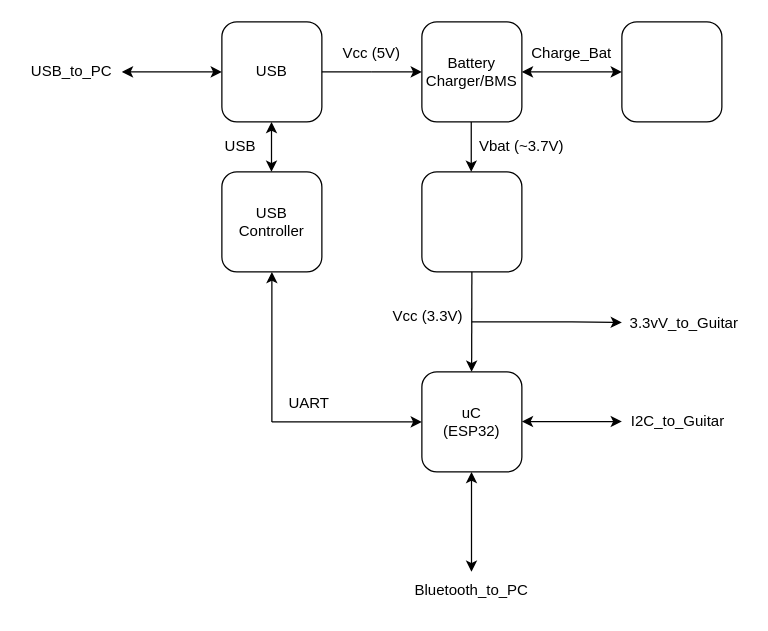
The diagram is 768 pixels wide and 631 high, and some of its shapes have lost their labels. The box of each missing label's shape, as (x1, y1, x2, y2) in pixels:
3.3V Voltage Regulator: (421, 171, 522, 272)
Battery: (621, 21, 722, 122)
